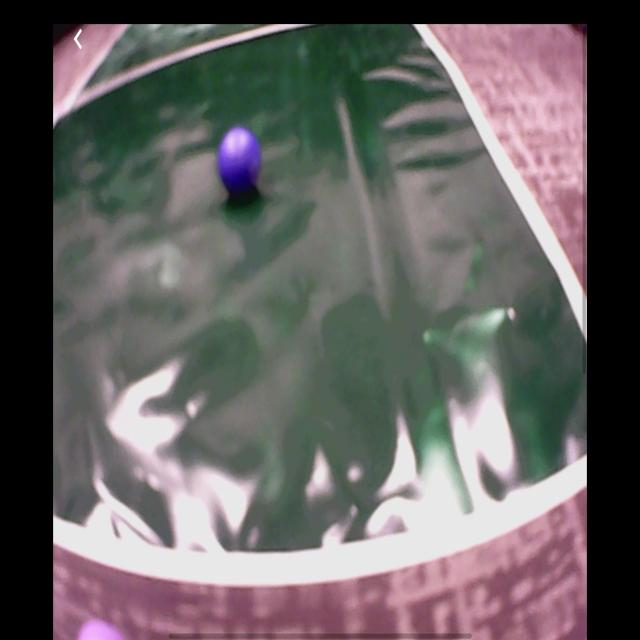ball: (218, 127, 264, 194), (76, 619, 130, 640)
